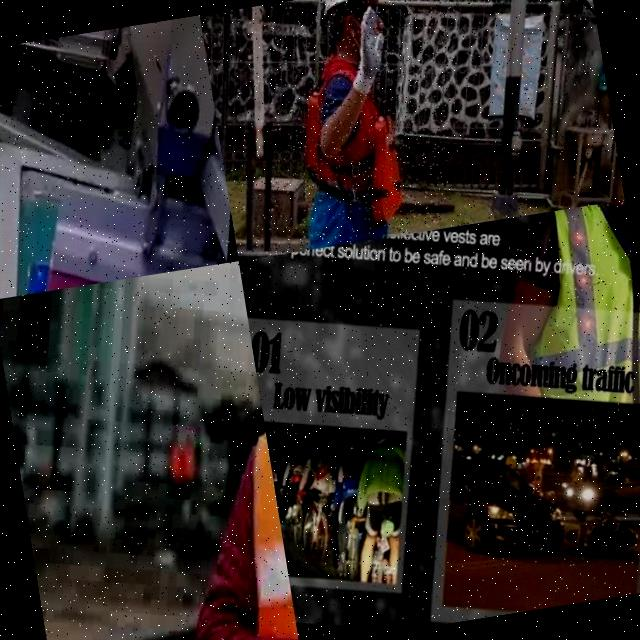helmet: (309, 0, 406, 33)
vest: (268, 36, 444, 252), (176, 388, 300, 640), (503, 199, 640, 424)
